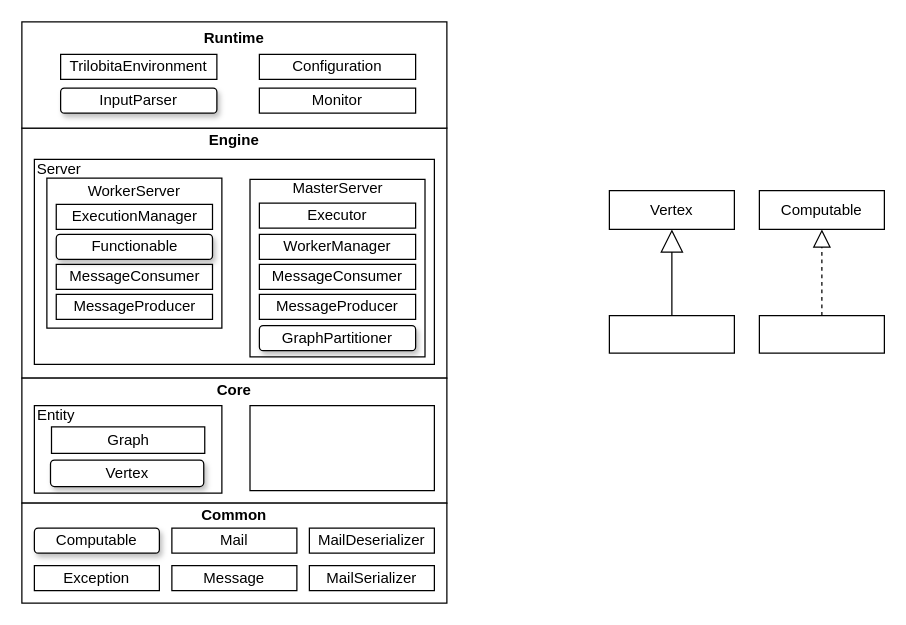
The diagram is 906 pixels wide and 625 high, and some of its shapes have lost their labels. Each missing label, with the centre of its shape:
PageRankValue: pixel 821 333
PageRankVertex: pixel 671 333
Server-server Messaging APIs: pixel 341 447
